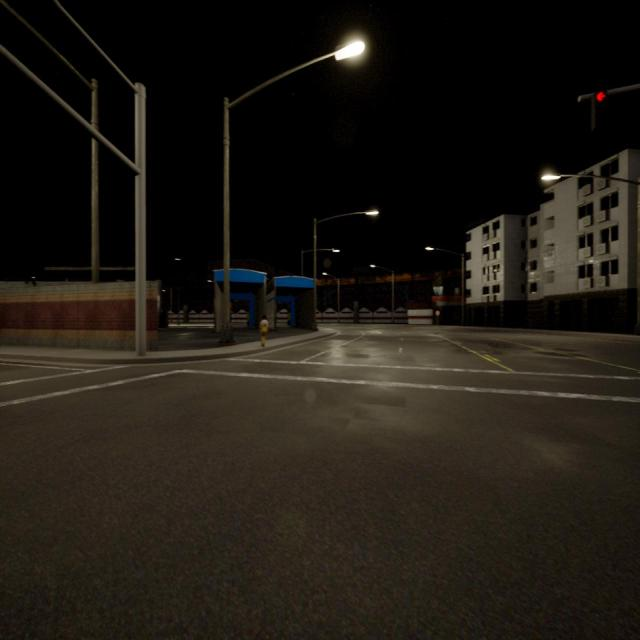Pedestrian: (259, 315, 269, 346)
Traffic_Signs: (436, 311, 440, 315)
traffic_light: (593, 92, 605, 128)
